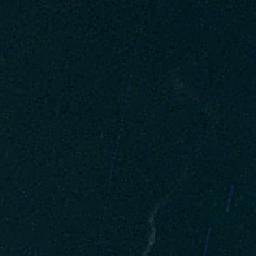debris: (145, 217, 157, 249)
